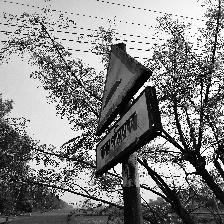Speed-breaker: (97, 34, 157, 170)
